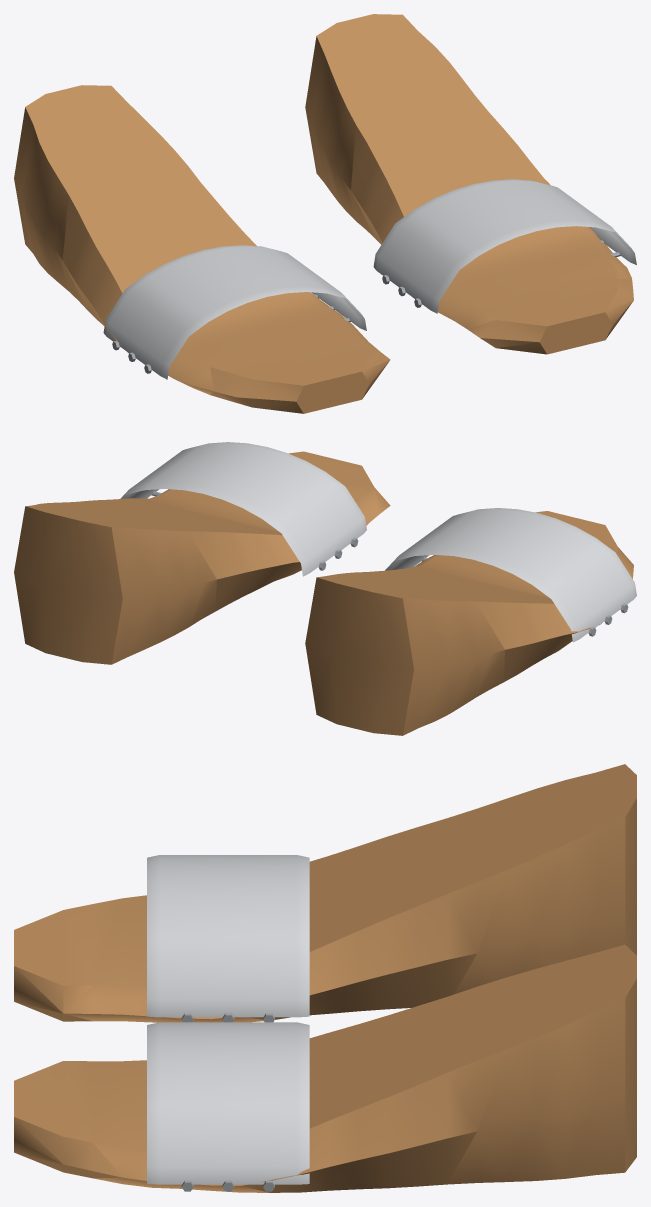
Rendered from guoc_cao_vn.far.glb.
The picture shows the model from 3 angles, top to bottom: view 1: azimuth 30°, elevation 25°; view 2: azimuth 150°, elevation 25°; view 3: azimuth 270°, elevation 25°; orthographic projection. The views are drawn at different scales.
Visible parts, largest first — view 1: guoc_cao_vn; view 2: guoc_cao_vn; view 3: guoc_cao_vn.
Boxes of the visible parts, x1,y1,x2,y2 form: guoc_cao_vn: (14, 14, 636, 413); guoc_cao_vn: (14, 442, 636, 735); guoc_cao_vn: (14, 764, 636, 1192).
Size of the model in its own units: 0.2378 by 0.068 by 0.2107.
